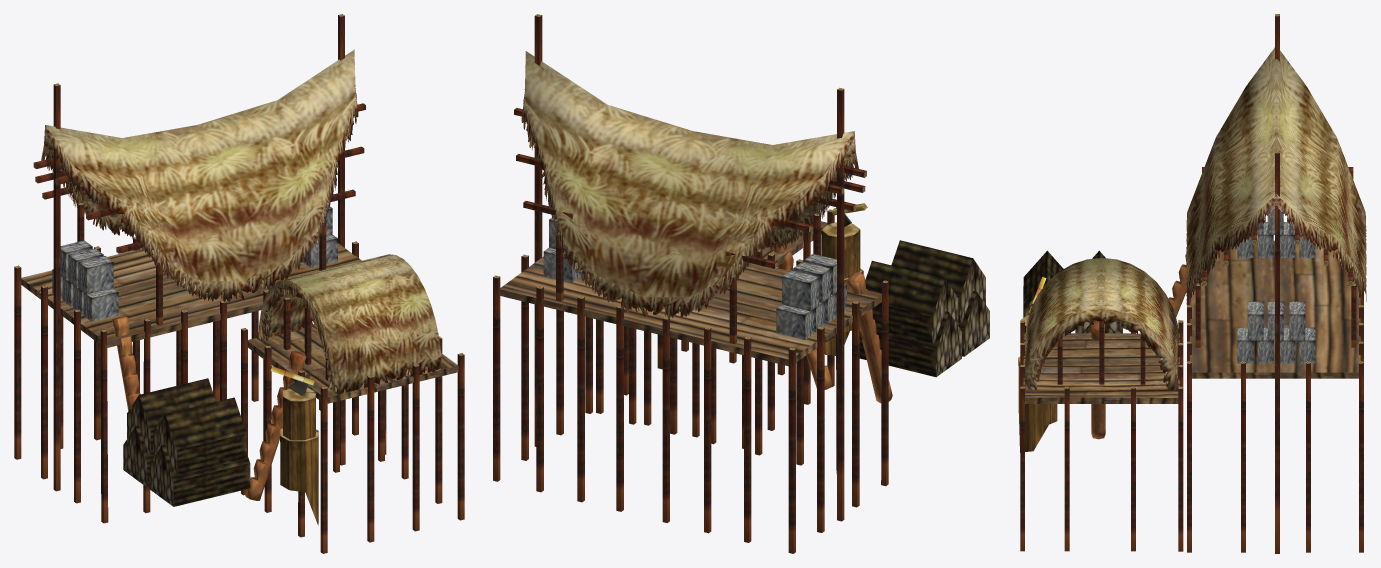
The model's file is storehouse.dae.
3 renders of one model, left to right at view 1: azimuth 30°, elevation 25°; view 2: azimuth 150°, elevation 25°; view 3: azimuth 270°, elevation 25°, orthographic. The views are drawn at different scales.
Visible parts, largest first — view 1: storehouse; view 2: storehouse; view 3: storehouse.
Boxes of the visible parts, left/top/right/bottom form: storehouse: left=14, top=14, right=464, bottom=553; storehouse: left=493, top=14, right=989, bottom=553; storehouse: left=1018, top=14, right=1366, bottom=553.
Bounding box in the file's own units: 12.85 × 12.66 × 16.15.
